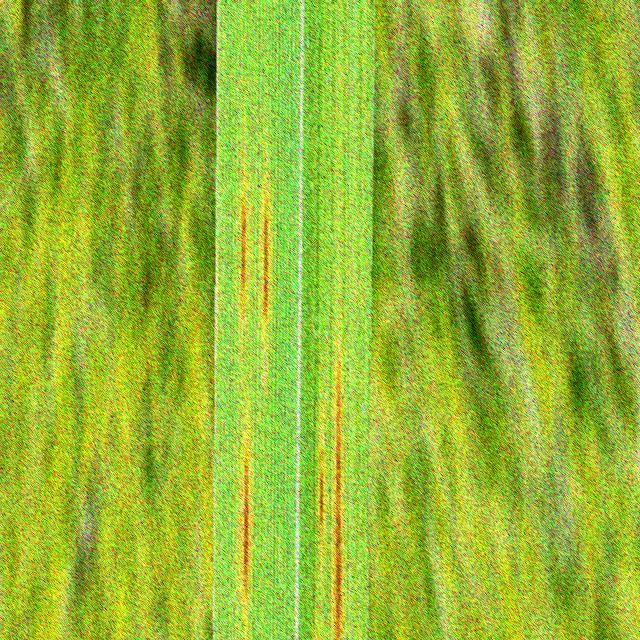NBS: (335, 363, 340, 640), (243, 458, 248, 593), (263, 213, 268, 322), (241, 202, 245, 293), (319, 450, 323, 525)
